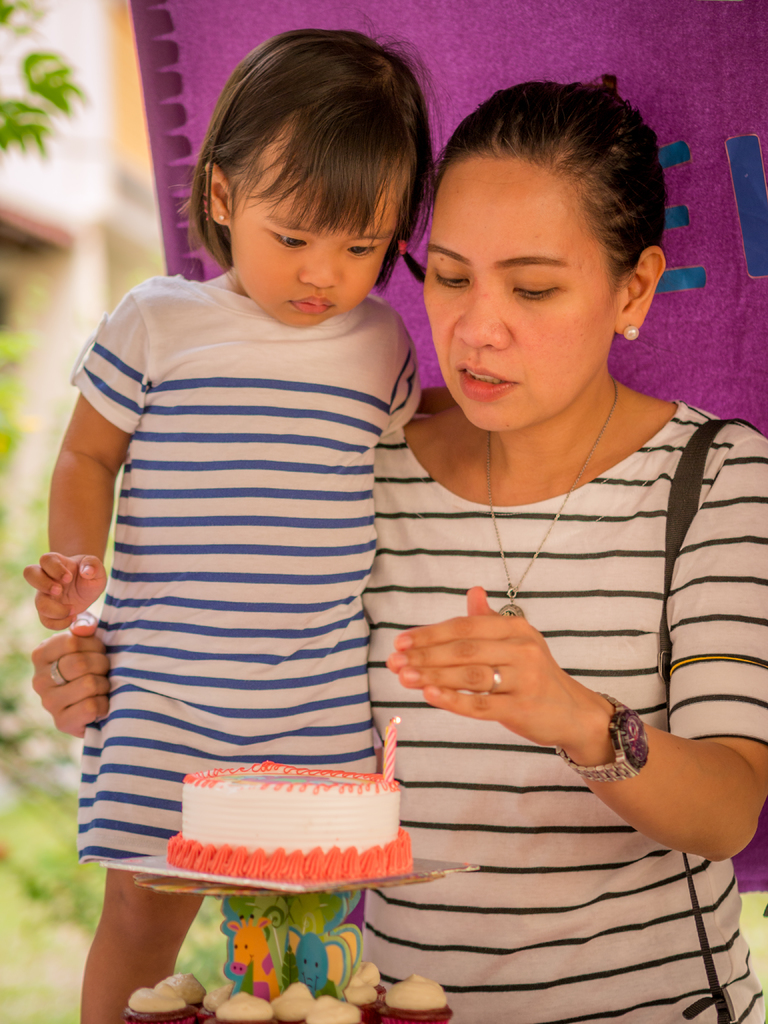Human-face: (420, 155, 609, 428), (231, 101, 408, 323)
